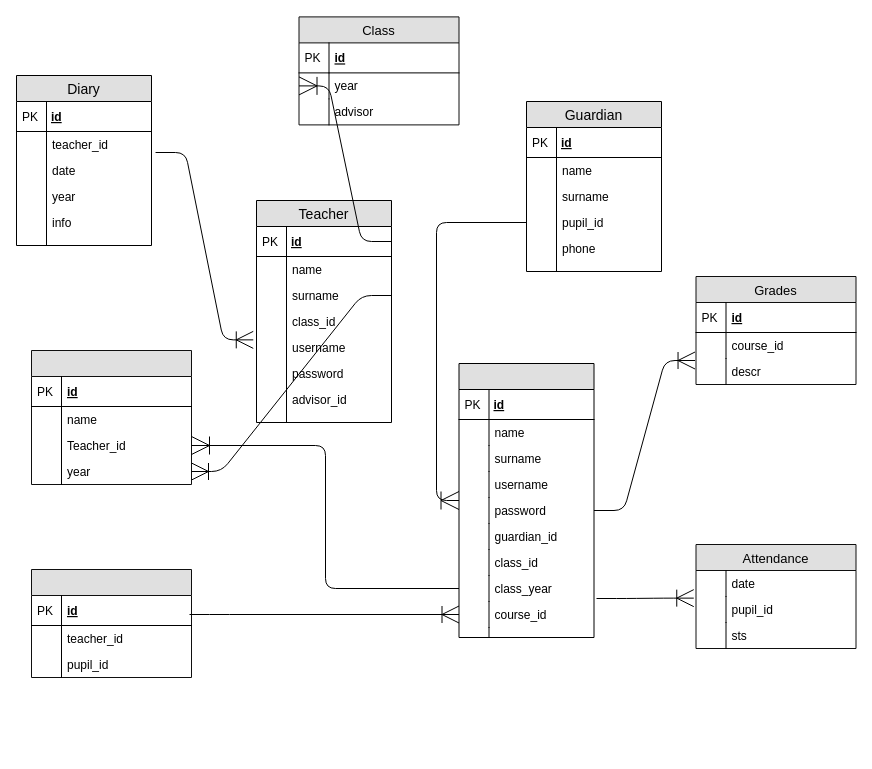
Image size: 872x769. Some labels were removed from this diagram. The box of each missing label's shape, as (x1, y1, x2, y2) in pixels:
Courses: (30, 350, 192, 484)
Pupils: (458, 362, 594, 638)
Register: (30, 568, 192, 678)
